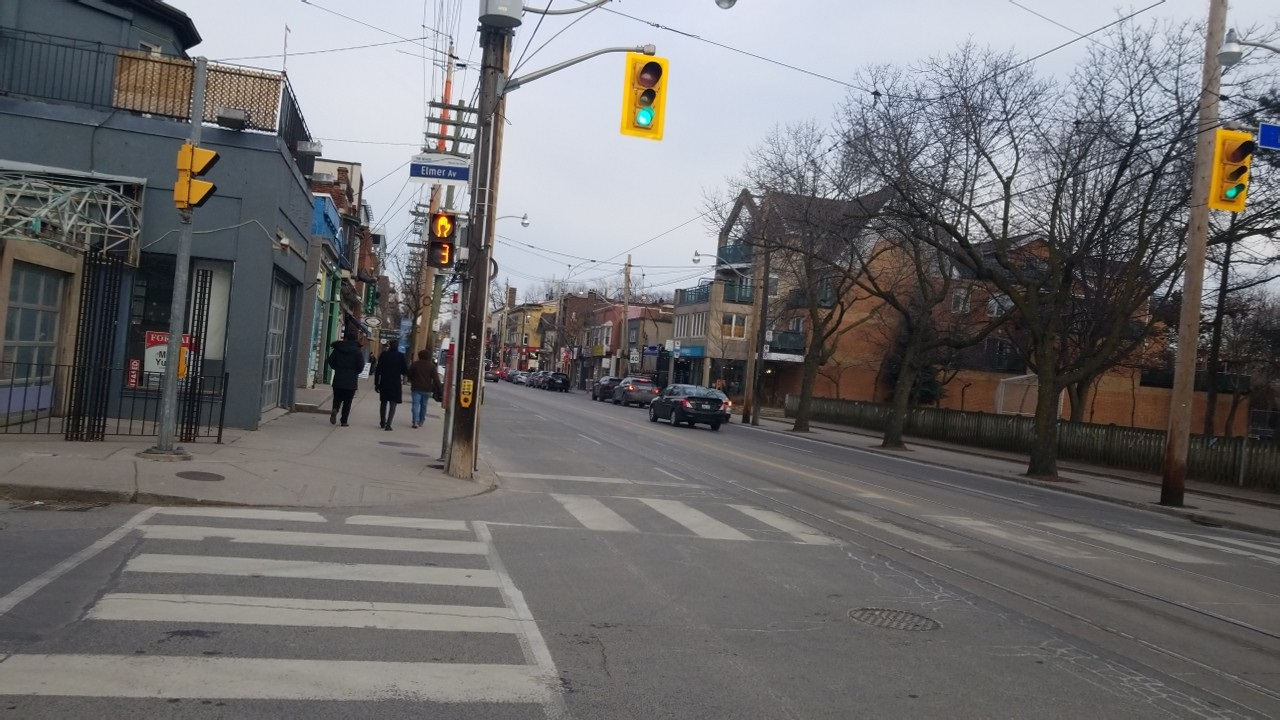light: (426, 210, 460, 270)
